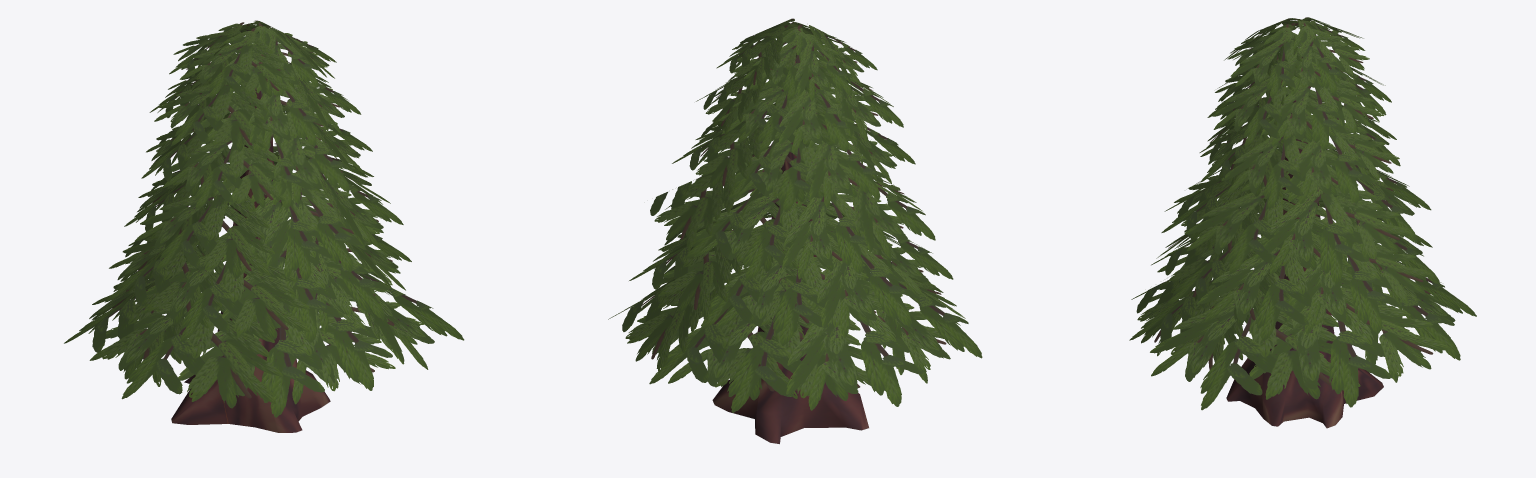
The model's file is spruce1.glb.
3 views of the same model, side by side, from view 1: azimuth 30°, elevation 25°; view 2: azimuth 150°, elevation 25°; view 3: azimuth 270°, elevation 25° (orthographic). The views are drawn at different scales.
Parts seen in each view (by area): view 1: spruce1; view 2: spruce1; view 3: spruce1.
Part boxes in pixels (box(x1,y1,x2,y2)): spruce1: box(64, 20, 464, 432); spruce1: box(608, 18, 982, 444); spruce1: box(1129, 17, 1476, 428).
Bounding box in the file's own units: 33.31 × 29.51 × 31.69.
2 materials, 2 textured.
